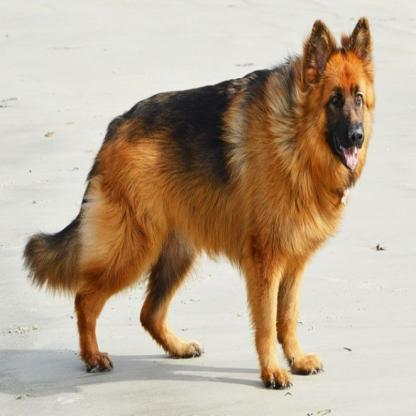dog: (22, 17, 376, 385)
